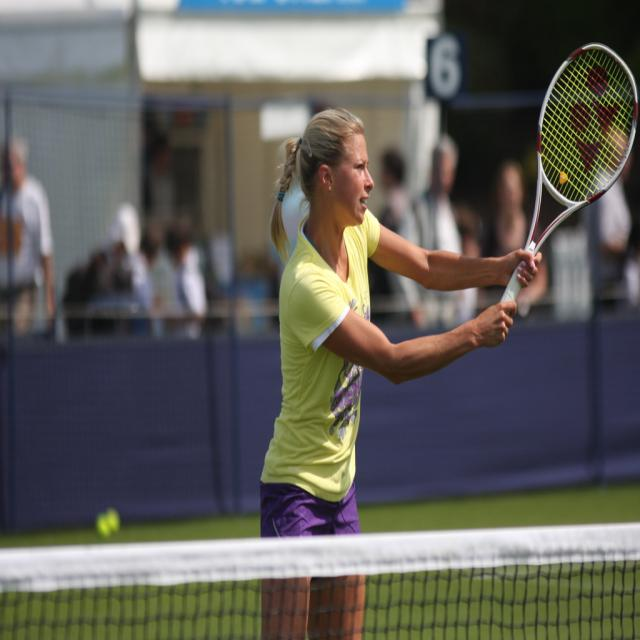Tennis ball: (104, 508, 118, 531)
